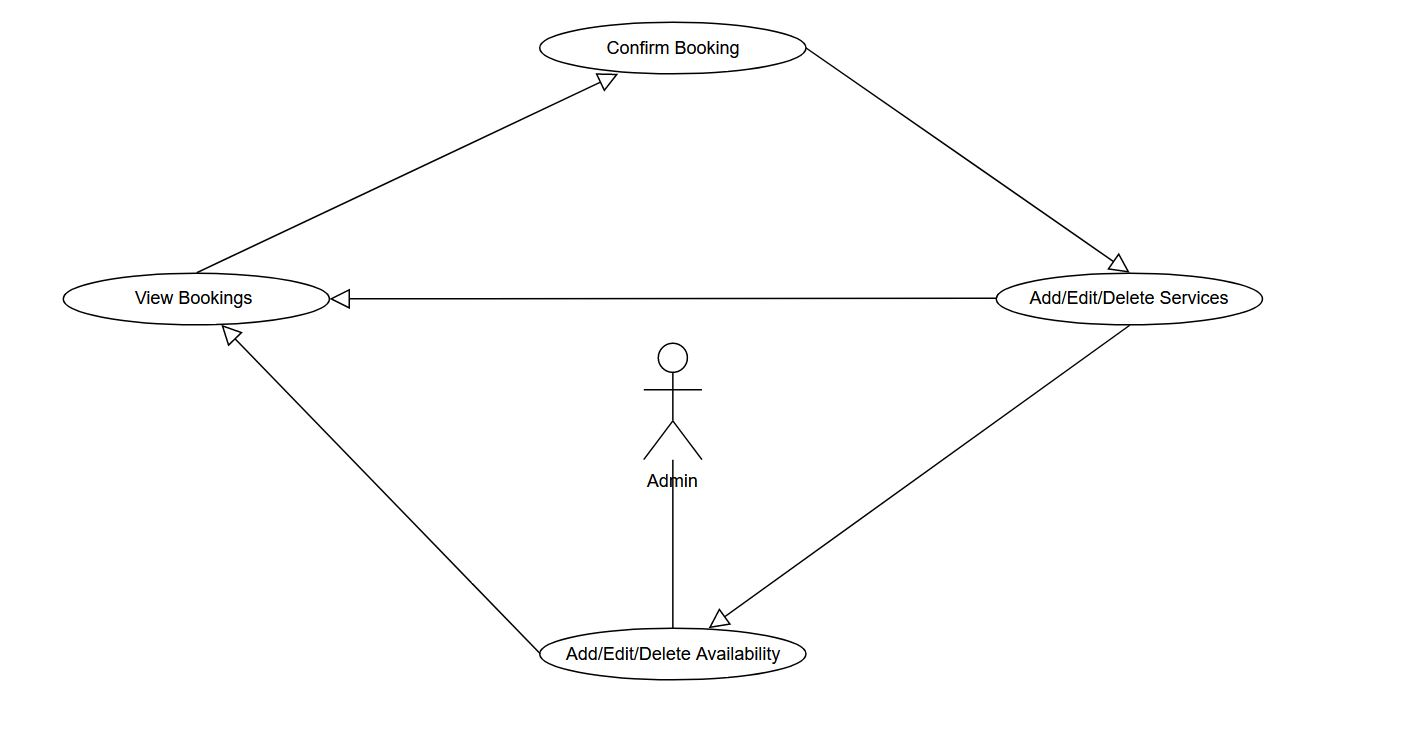actor: (641, 339, 705, 462)
association: (657, 464, 684, 625)
generalization: (708, 325, 1128, 629), (218, 323, 535, 650), (201, 71, 621, 269), (807, 45, 1129, 273), (329, 287, 996, 309)
text: (560, 642, 784, 667), (1027, 285, 1231, 310), (602, 36, 742, 62), (129, 282, 261, 309), (646, 469, 702, 491)
use_case: (537, 18, 808, 77), (537, 626, 807, 683), (994, 271, 1264, 326), (61, 273, 330, 328)
